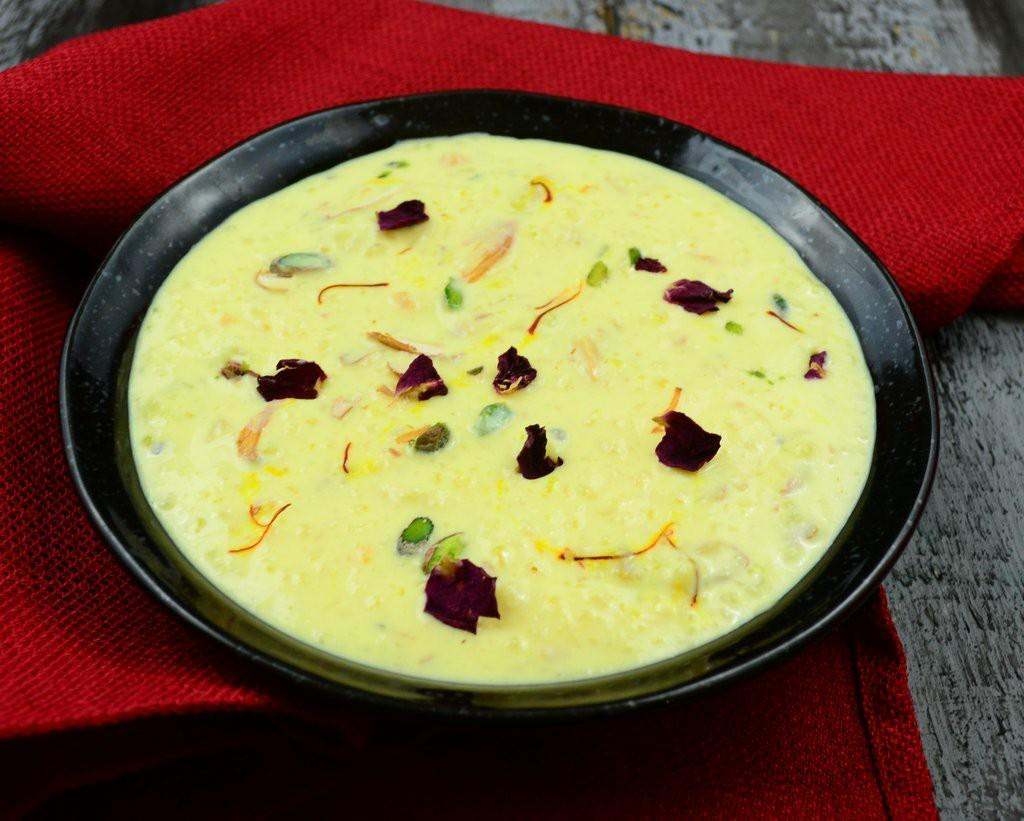Kheer: (122, 130, 877, 693)
